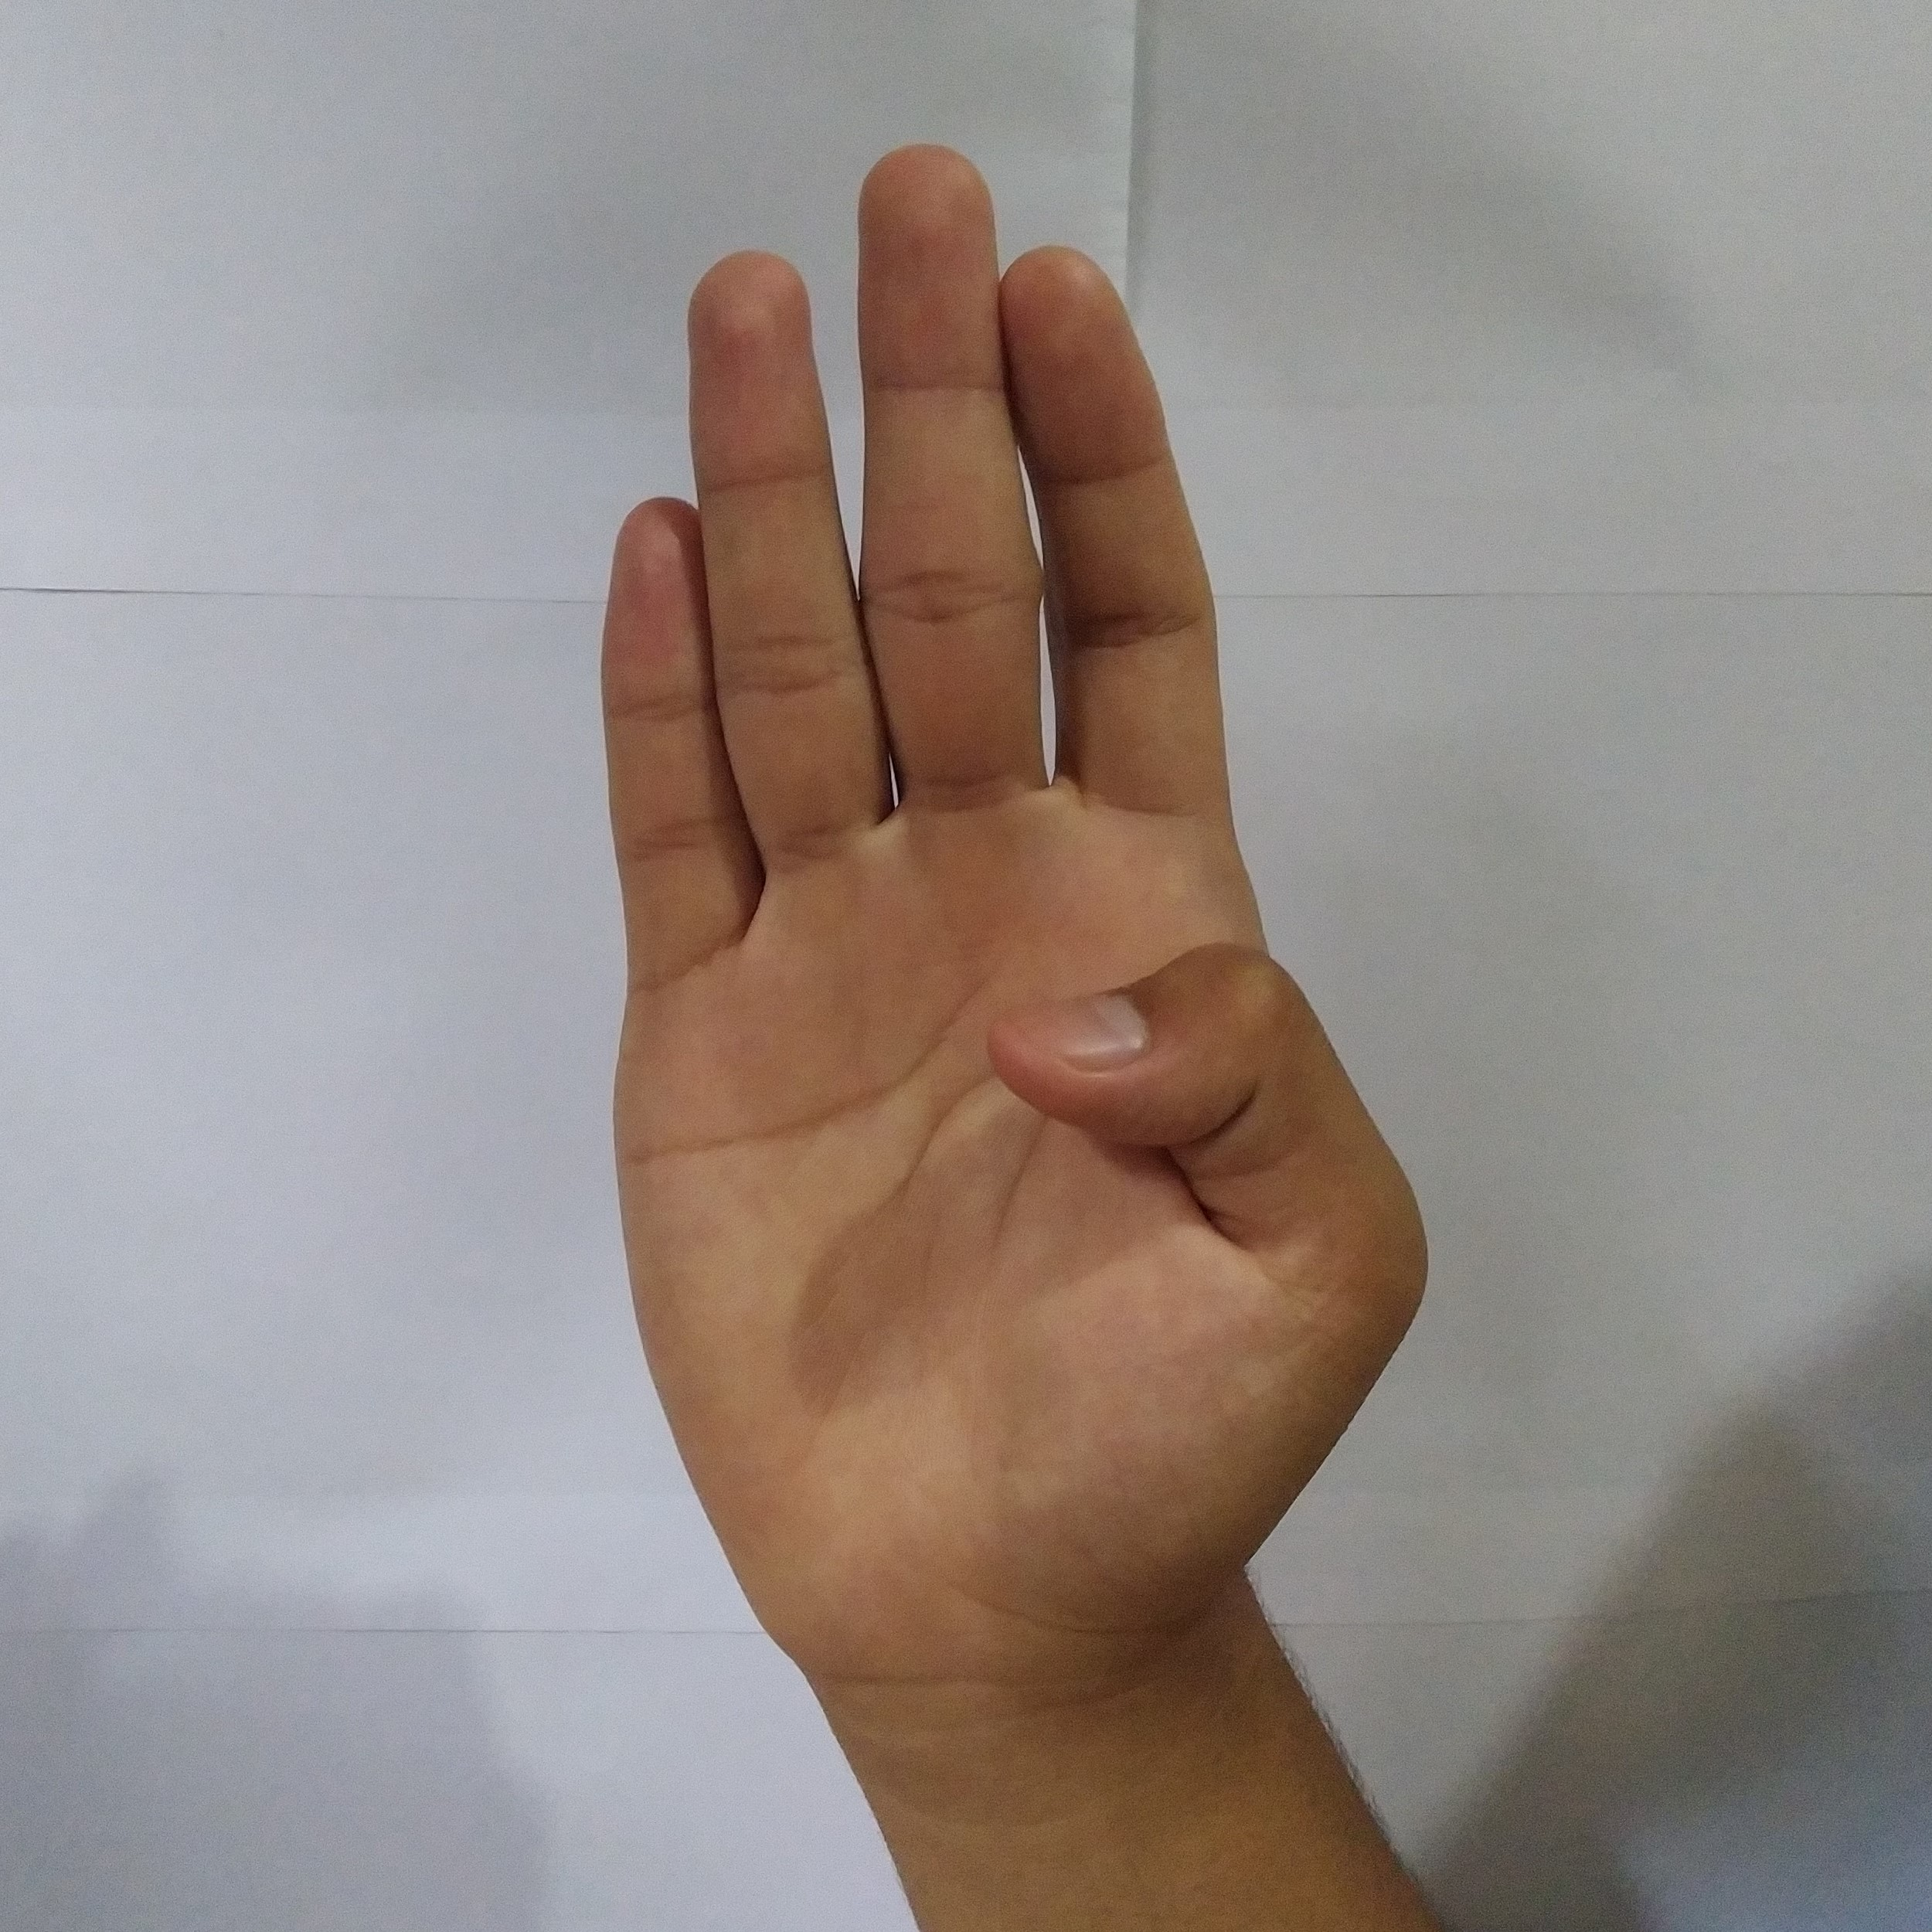B: (575, 124, 1445, 1640)
